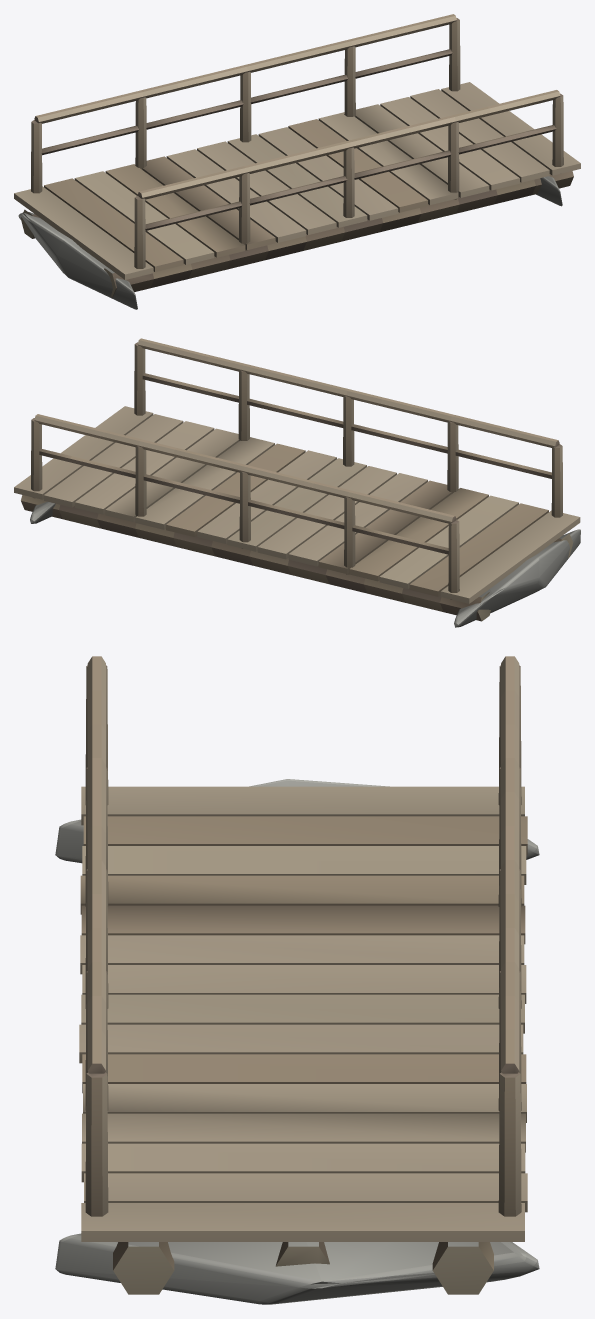
The model's file is bridge.glb.
3 renders of one model, top to bottom at view 1: azimuth 30°, elevation 25°; view 2: azimuth 150°, elevation 25°; view 3: azimuth 270°, elevation 25°, orthographic. The views are drawn at different scales.
Bounding box in the file's own units: 7.26 × 1.57 × 3.16.
